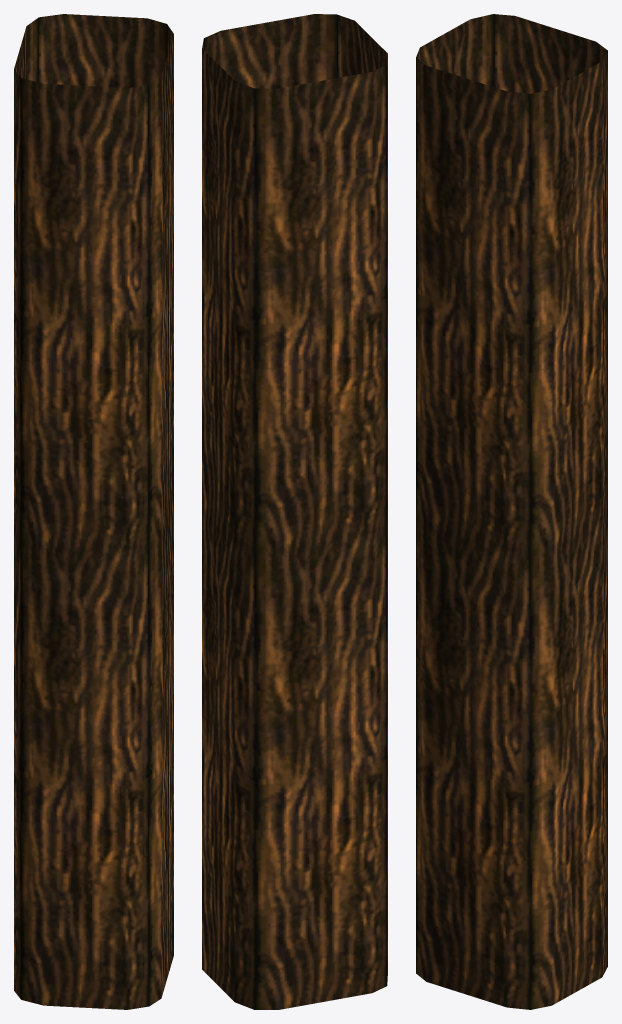
File: OVERHILL_A_01_LINE259.obj
The picture shows the model from 3 angles, left to right: view 1: azimuth 30°, elevation 25°; view 2: azimuth 150°, elevation 25°; view 3: azimuth 270°, elevation 25°; orthographic projection.
Parts seen in each view (by area): view 1: Line259; view 2: Line259; view 3: Line259.
Part boxes in pixels (x1,y1,x2,y2): Line259: [14, 14, 173, 1009]; Line259: [202, 14, 387, 1009]; Line259: [416, 14, 607, 1009].
Size of the model in its own units: 60 by 321 by 60.95.
